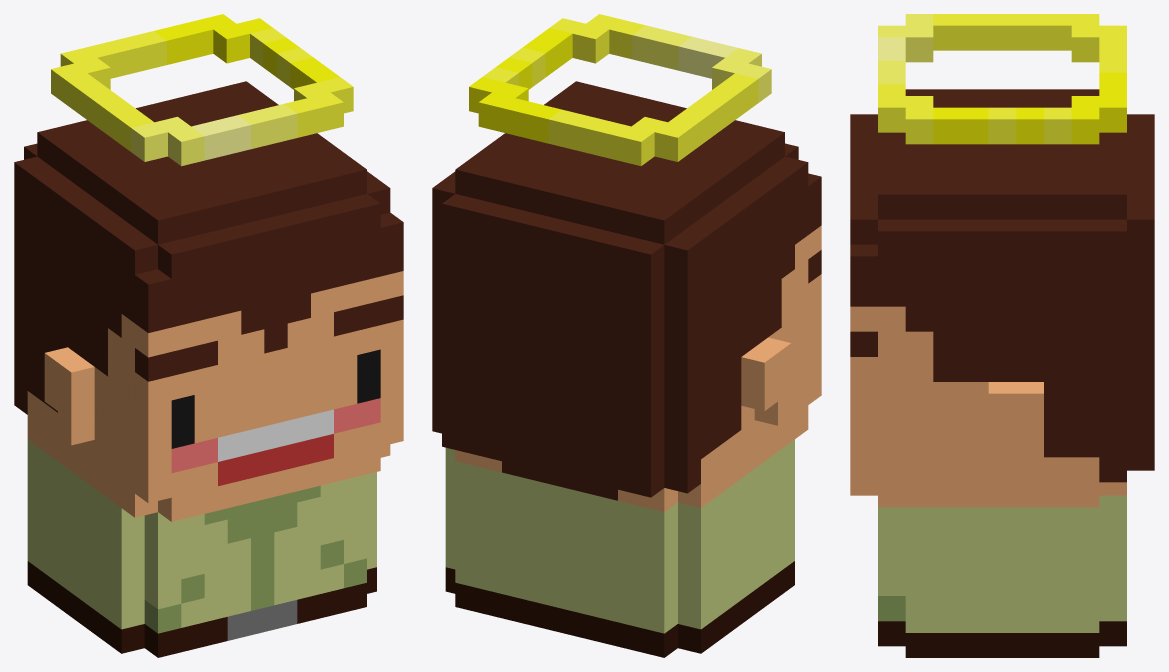
Rendered from godBody.obj.
3 renders of one model, left to right at view 1: azimuth 30°, elevation 25°; view 2: azimuth 150°, elevation 25°; view 3: azimuth 270°, elevation 25°, orthographic. The views are drawn at different scales.
Bounding box in the file's own units: 1.3 × 2.1 × 1.1.
1 material, 1 textured.
